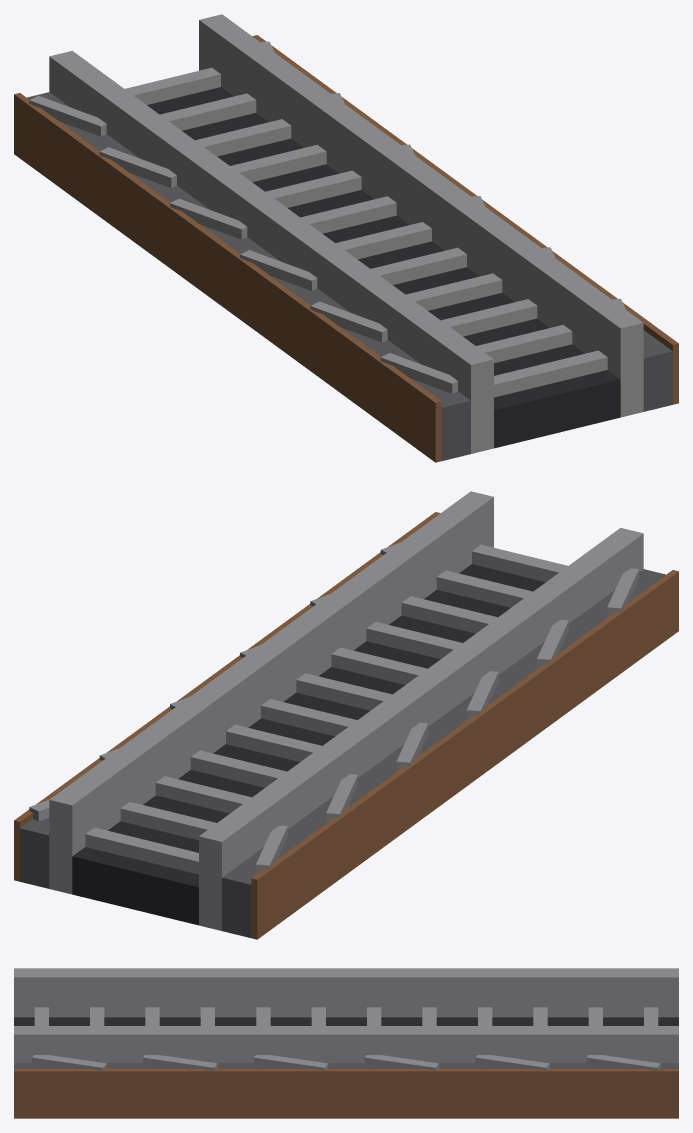
Rendered from ship_beam_b8.obj.
3 views of the same model, one above another, from view 1: azimuth 30°, elevation 25°; view 2: azimuth 150°, elevation 25°; view 3: azimuth 270°, elevation 25° (orthographic). The views are drawn at different scales.
Parts seen in each view (by area): view 1: ship_beam_b8_22, ship_beam_b8_15, ship_beam_b8_13, ship_beam_b8_0, ship_beam_b8_14, ship_beam_b8_24, ship_beam_b8_1, ship_beam_b8_23, ship_beam_b8_2, ship_beam_b8_4, ship_beam_b8_11, ship_beam_b8_3 (+13 smaller); view 2: ship_beam_b8_22, ship_beam_b8_15, ship_beam_b8_13, ship_beam_b8_0, ship_beam_b8_14, ship_beam_b8_24, ship_beam_b8_12, ship_beam_b8_23, ship_beam_b8_11, ship_beam_b8_9, ship_beam_b8_2, ship_beam_b8_3 (+13 smaller); view 3: ship_beam_b8_24, ship_beam_b8_13, ship_beam_b8_22, ship_beam_b8_0, ship_beam_b8_23, ship_beam_b8_27, ship_beam_b8_28, ship_beam_b8_29, ship_beam_b8_30, ship_beam_b8_25, ship_beam_b8_26, ship_beam_b8_1 (+11 smaller).
Boxes of the visible parts, x1=… form: ship_beam_b8_22: x1=199, y1=14, x2=643, y2=417; ship_beam_b8_15: x1=14, y1=93, x2=441, y2=462; ship_beam_b8_13: x1=49, y1=50, x2=493, y2=453; ship_beam_b8_0: x1=147, y1=87, x2=620, y2=448; ship_beam_b8_14: x1=27, y1=92, x2=470, y2=460; ship_beam_b8_24: x1=252, y1=35, x2=678, y2=404; ship_beam_b8_1: x1=494, y1=350, x2=607, y2=397; ship_beam_b8_23: x1=643, y1=330, x2=672, y2=411; ship_beam_b8_2: x1=476, y1=325, x2=572, y2=363; ship_beam_b8_4: x1=406, y1=273, x2=502, y2=310; ship_beam_b8_11: x1=160, y1=93, x2=256, y2=130; ship_beam_b8_3: x1=441, y1=299, x2=537, y2=336; ship_beam_b8_22: x1=49, y1=491, x2=493, y2=894; ship_beam_b8_15: x1=251, y1=570, x2=678, y2=939; ship_beam_b8_13: x1=199, y1=527, x2=643, y2=930; ship_beam_b8_0: x1=72, y1=564, x2=545, y2=925; ship_beam_b8_14: x1=222, y1=569, x2=665, y2=937; ship_beam_b8_24: x1=14, y1=512, x2=440, y2=881; ship_beam_b8_12: x1=85, y1=827, x2=198, y2=874; ship_beam_b8_23: x1=20, y1=818, x2=49, y2=888; ship_beam_b8_11: x1=120, y1=802, x2=216, y2=840; ship_beam_b8_9: x1=190, y1=750, x2=286, y2=787; ship_beam_b8_2: x1=436, y1=570, x2=532, y2=607; ship_beam_b8_3: x1=401, y1=596, x2=497, y2=633; ship_beam_b8_24: x1=14, y1=1069, x2=678, y2=1118; ship_beam_b8_13: x1=14, y1=968, x2=678, y2=1017; ship_beam_b8_22: x1=14, y1=1026, x2=678, y2=1062; ship_beam_b8_0: x1=14, y1=1017, x2=678, y2=1025; ship_beam_b8_23: x1=14, y1=1063, x2=678, y2=1068; ship_beam_b8_27: x1=253, y1=1055, x2=328, y2=1070; ship_beam_b8_28: x1=364, y1=1055, x2=439, y2=1070; ship_beam_b8_29: x1=475, y1=1055, x2=549, y2=1070; ship_beam_b8_30: x1=586, y1=1055, x2=660, y2=1070; ship_beam_b8_25: x1=32, y1=1055, x2=106, y2=1070; ship_beam_b8_26: x1=143, y1=1055, x2=217, y2=1070; ship_beam_b8_1: x1=34, y1=1007, x2=48, y2=1025.
Size of the model in its own units: 2 by 0.7 by 6.
